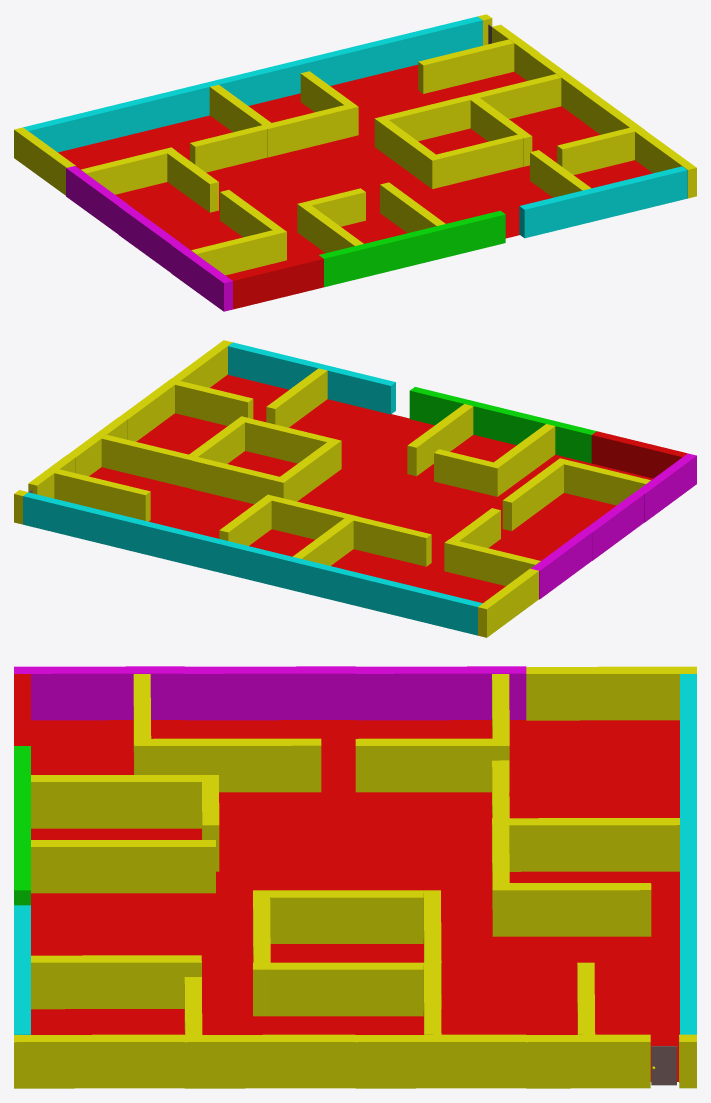
File: BuildingPart1.fbx
3 views of the same model, one above another, from view 1: azimuth 30°, elevation 25°; view 2: azimuth 150°, elevation 25°; view 3: azimuth 270°, elevation 25° (orthographic). The views are drawn at different scales.
Visible parts, largest first — view 1: pasted__carpet_floor, pasted__pasted__pasted__pasted__pasted__wall_3 (×8), pasted__pasted__pasted__pasted__pasted__pasted__wall_3 (×7), pasted__pasted__wall_2 (×3), pasted__wall_1 (×2), pasted__pasted__pasted__wall_3 (×3), pasted__pasted__pasted__wall_2 (×2), pasted__pasted__pasted__pasted__wall_3 (×3), pasted__wall_4 (×2), pasted__pasted__pasted__pasted__pasted__wall_2, pasted__wall_5, pasted__wall_2 (+4 smaller); view 2: pasted__carpet_floor, pasted__pasted__pasted__pasted__pasted__wall_3 (×8), pasted__pasted__pasted__pasted__pasted__pasted__wall_3 (×7), pasted__pasted__wall_2 (×3), pasted__pasted__pasted__pasted__wall_3 (×3), pasted__pasted__pasted__wall_3 (×3), pasted__pasted__pasted__wall_2 (×2), pasted__wall_1 (×2), pasted__wall_4 (×2), pasted__wall_2, pasted__wall_5, pasted__pasted__pasted__pasted__pasted__wall_2 (+4 smaller); view 3: pasted__carpet_floor, pasted__pasted__pasted__pasted__pasted__wall_3 (×8), pasted__pasted__pasted__pasted__pasted__pasted__wall_3 (×7), pasted__pasted__pasted__pasted__wall_3 (×3), pasted__pasted__pasted__wall_3 (×4), pasted__wall_4 (×2), pasted__pasted__wall_3, wall_4, pasted__pasted__pasted__pasted__pasted__pasted__pasted__past, pasted__pasted__pasted__pasted__pasted__pasted__pasted__wall, pasted__pasted__wall_2 (×3), pasted__wall_1 (×2) (+5 smaller).
Part boxes in pixels (box(x1,y1,x2,y2)): pasted__carpet_floor: box(58, 64, 652, 276); pasted__pasted__pasted__pasted__pasted__wall_3 (×8): box(14, 74, 696, 275); pasted__pasted__pasted__pasted__pasted__pasted__wall_3 (×7): box(190, 71, 635, 237); pasted__pasted__wall_2 (×3): box(23, 38, 391, 152); pasted__wall_1 (×2): box(319, 210, 505, 287); pasted__pasted__pasted__wall_3 (×3): box(418, 24, 644, 134); pasted__pasted__pasted__wall_2 (×2): box(387, 16, 596, 238); pasted__pasted__pasted__pasted__wall_3 (×3): box(297, 98, 591, 235); pasted__wall_4 (×2): box(66, 166, 232, 311); pasted__pasted__pasted__pasted__pasted__wall_2: box(591, 166, 687, 220); pasted__wall_5: box(228, 255, 323, 309); pasted__wall_2: box(114, 83, 209, 137); pasted__carpet_floor: box(89, 374, 652, 602); pasted__pasted__pasted__pasted__pasted__wall_3 (×8): box(101, 340, 650, 637); pasted__pasted__pasted__pasted__pasted__pasted__wall_3 (×7): box(175, 381, 563, 566); pasted__pasted__wall_2 (×3): box(114, 514, 482, 635); pasted__pasted__pasted__pasted__wall_3 (×3): box(189, 368, 502, 496); pasted__pasted__pasted__wall_3 (×3): box(28, 378, 179, 521); pasted__pasted__pasted__wall_2 (×2): box(23, 364, 395, 546); pasted__wall_1 (×2): box(409, 387, 596, 463); pasted__wall_4 (×2): box(531, 453, 696, 599); pasted__wall_2: box(296, 559, 391, 613); pasted__wall_5: box(591, 431, 687, 478); pasted__pasted__pasted__pasted__pasted__wall_2: box(228, 342, 323, 389); pasted__carpet_floor: box(31, 720, 679, 1081); pasted__pasted__pasted__pasted__pasted__wall_3 (×8): box(14, 666, 696, 1088); pasted__pasted__pasted__pasted__pasted__pasted__wall_3 (×7): box(31, 738, 651, 1035); pasted__pasted__pasted__pasted__wall_3 (×3): box(31, 775, 423, 1016); pasted__pasted__pasted__wall_3 (×4): box(184, 962, 696, 1088); pasted__wall_4 (×2): box(14, 666, 526, 720); pasted__pasted__wall_3: box(355, 1034, 526, 1088); wall_4: box(184, 666, 355, 720); pasted__pasted__pasted__pasted__pasted__pasted__pasted__past: box(509, 818, 679, 871); pasted__pasted__pasted__pasted__pasted__pasted__pasted__wall: box(355, 738, 493, 792); pasted__pasted__wall_2 (×3): box(680, 674, 696, 962); pasted__wall_1 (×2): box(14, 746, 30, 905).
Size of the model in its own units: 52.07 by 3 by 40.
